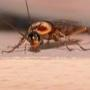cockroach: (20, 20, 86, 50)
